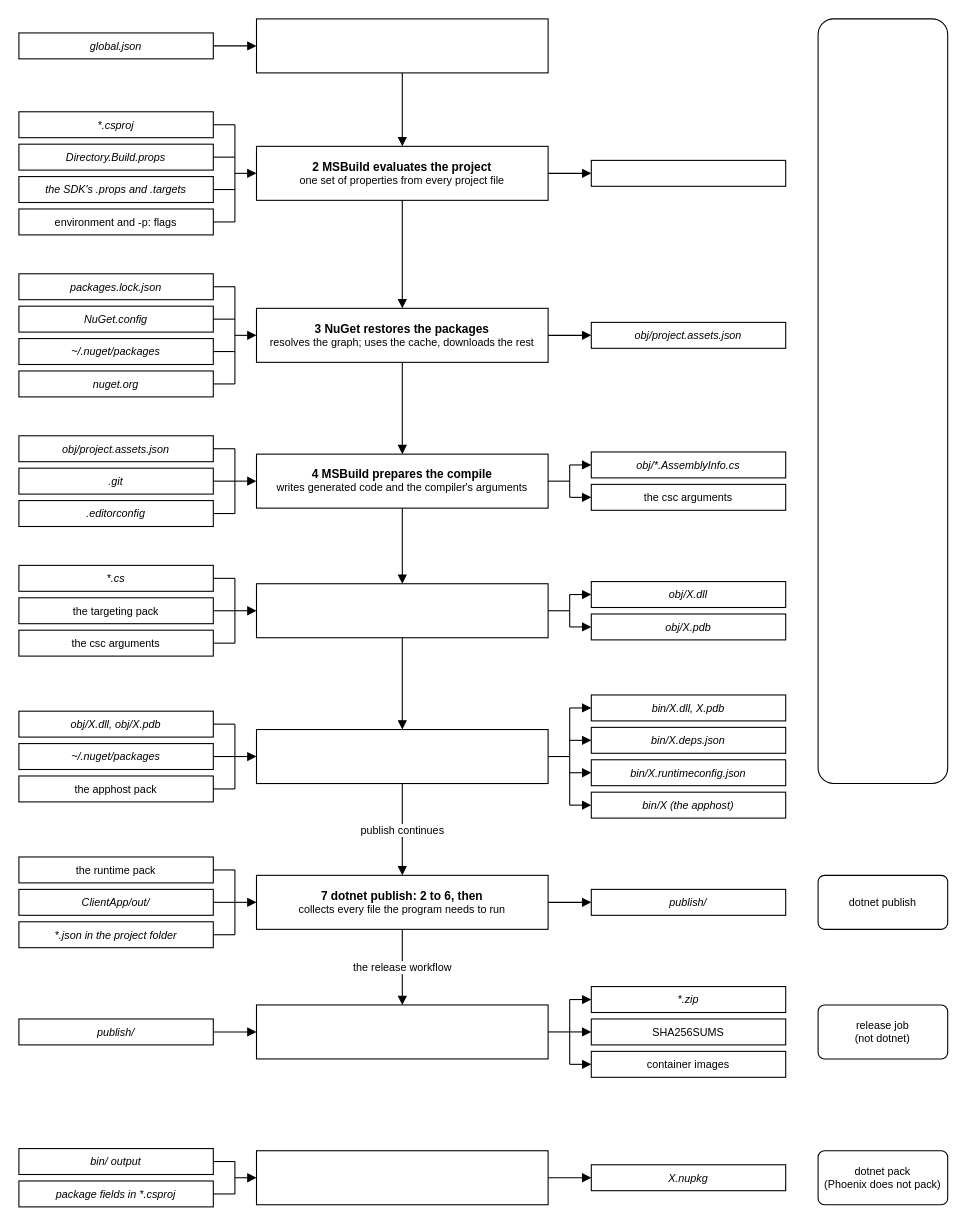
The diagram is 967 pixels wide and 1226 high, and some of its shapes have lost their labels. The shapes that lost their labels are listed below. From the top down, each one's centre as x and y in pixels, then its label:
At point (401, 45): "1 dotnet finds the SDK the SDK that global.json names (figure 2)".
At point (688, 172): "(properties in memory)".
At point (882, 401): "dotnet build steps 1 to 6".
At point (401, 610): "5 csc compiles in the compiler server; source generators run inside".
At point (401, 756): "6 MSBuild copies to bin/ adds the files the host reads when the app starts".
At point (401, 1031): "8 the release job, after dotnet zips, checksums, signatures and images".
At point (401, 1177): "9 dotnet pack: 2 to 6, then zips the bin/ output into a package".
